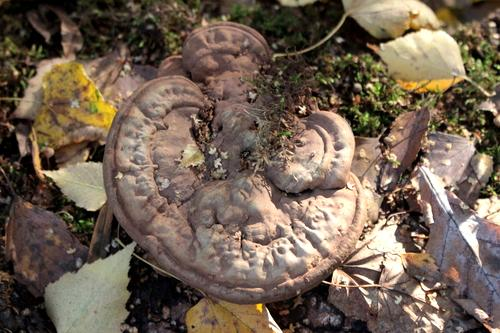Ganoderma - Fruit Body: (99, 20, 370, 302)
